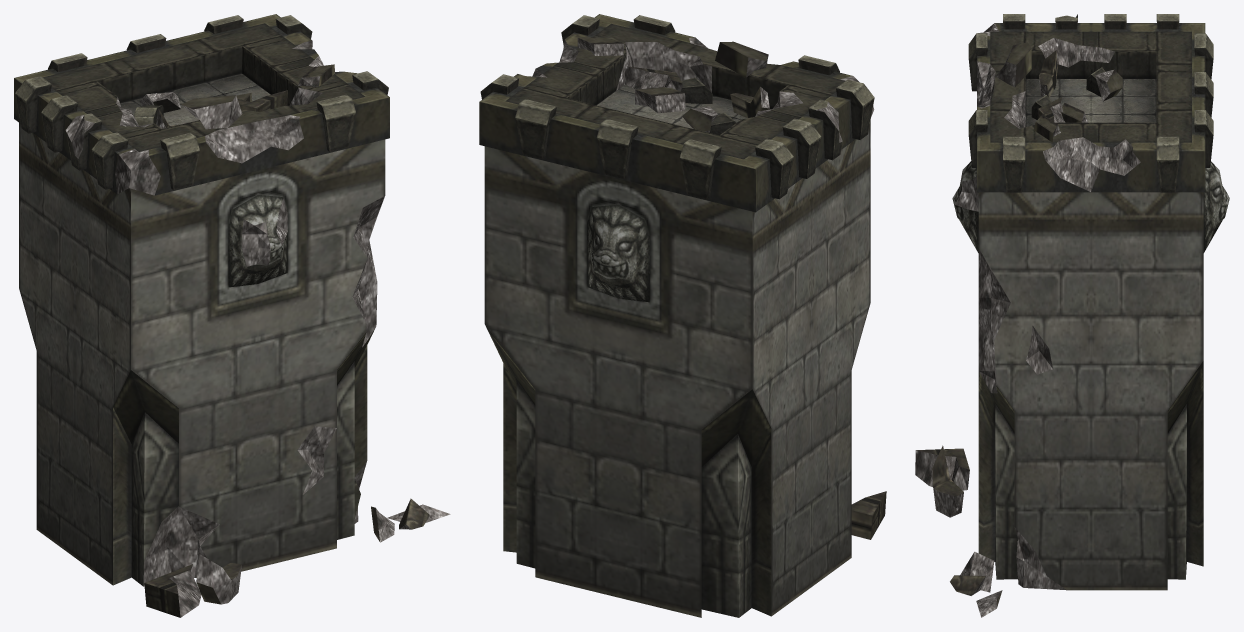
The picture shows the model from 3 angles, left to right: view 1: azimuth 30°, elevation 25°; view 2: azimuth 150°, elevation 25°; view 3: azimuth 270°, elevation 25°; orthographic projection. The views are drawn at different scales.
Visible parts, largest first — view 1: object21; view 2: object21; view 3: object21.
Boxes of the visible parts, <box> form: object21: <box>14,14,450,617</box>; object21: <box>479,14,886,617</box>; object21: <box>915,14,1229,617</box>.
Size of the model in its own units: 289 by 382 by 232.
